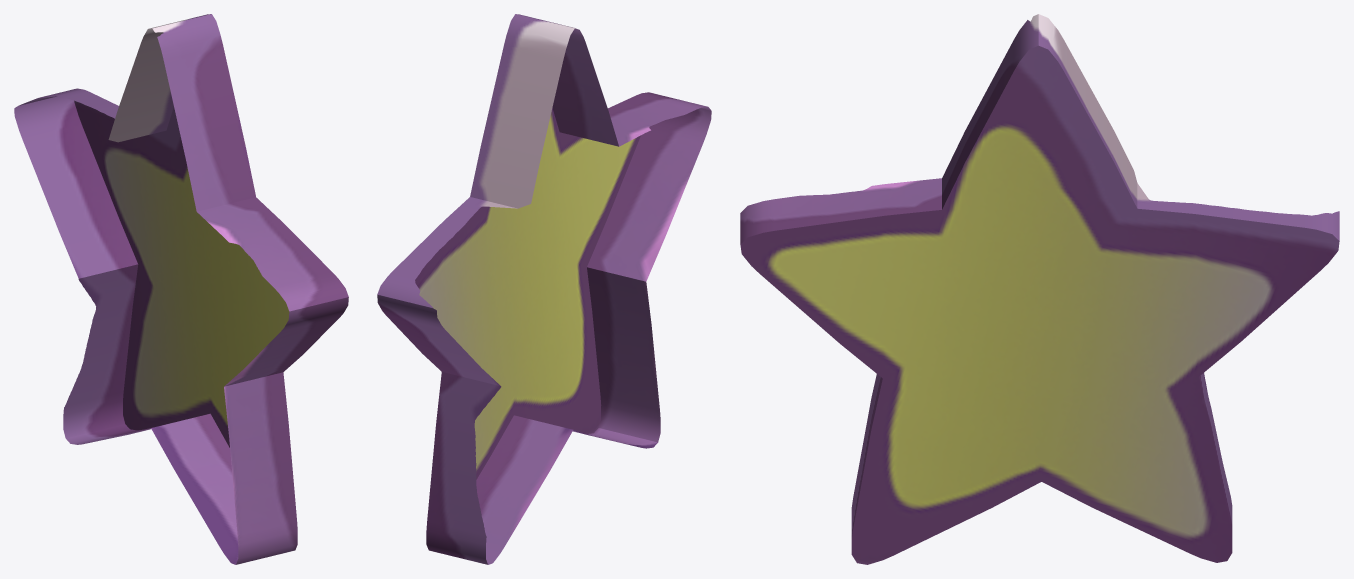
Rendered from Star001.FBX.
3 renders of one model, left to right at view 1: azimuth 30°, elevation 25°; view 2: azimuth 150°, elevation 25°; view 3: azimuth 270°, elevation 25°, orthographic. The views are drawn at different scales.
Parts seen in each view (by area): view 1: Star001; view 2: Star001; view 3: Star001.
Boxes of the visible parts, x1,y1,x2,y2 form: Star001: (14,14,348,564); Star001: (377,14,711,564); Star001: (740,14,1339,564).
Size of the model in its own units: 2.22 by 16.98 by 17.75.
